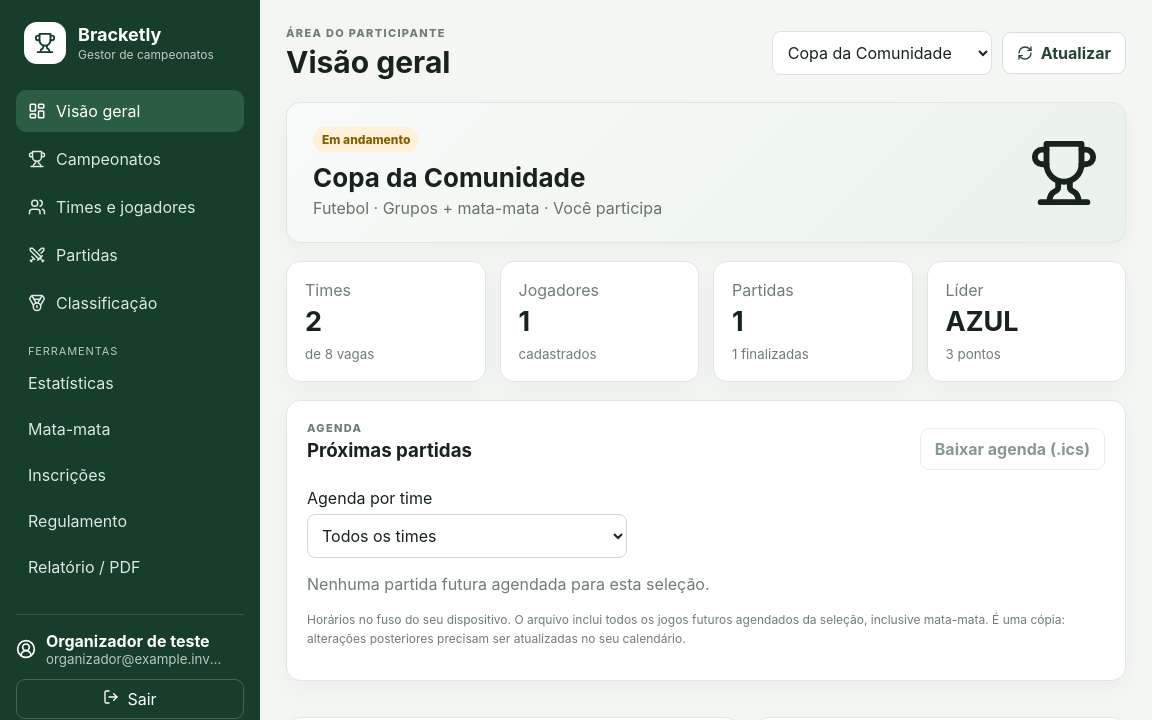
Scenario: exibe o regulamento em modo somente leitura
Expected: the heading "Copa da Comunidade" is shown, left=313, top=162, right=585, bottom=193
Click the button "Regulamento": (130, 521) left=16, top=500, right=244, bottom=542
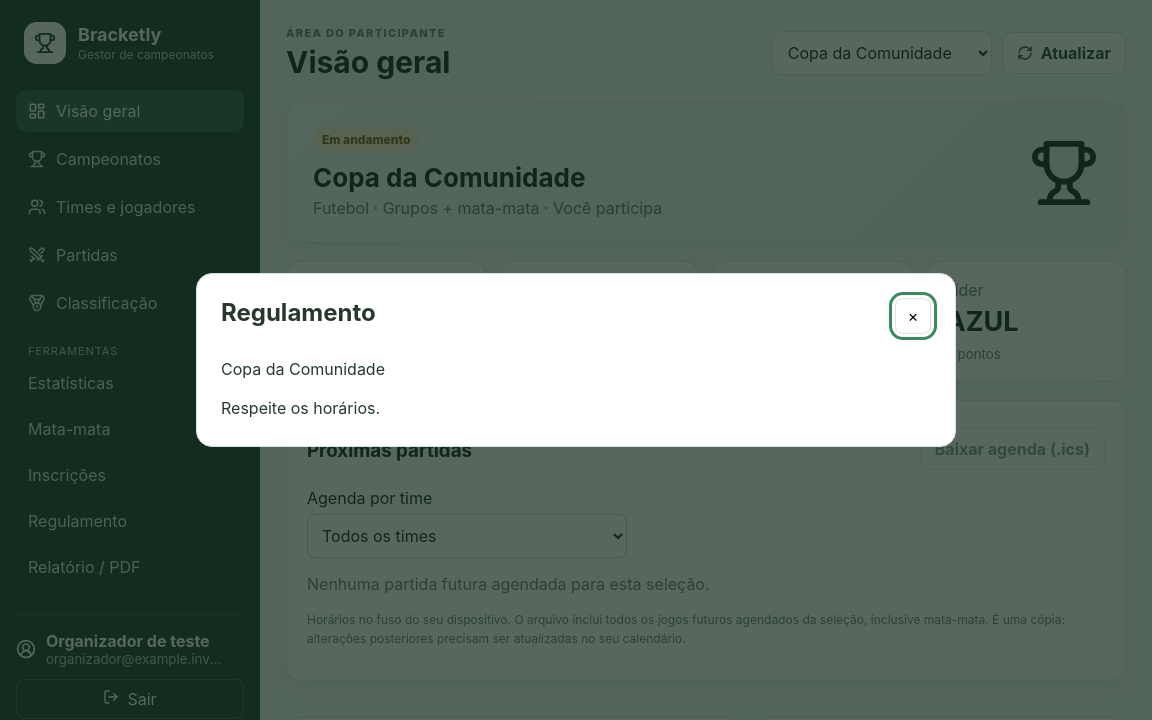
Now the text "Respeite os horários." is shown, box left=221, top=398, right=380, bottom=418
